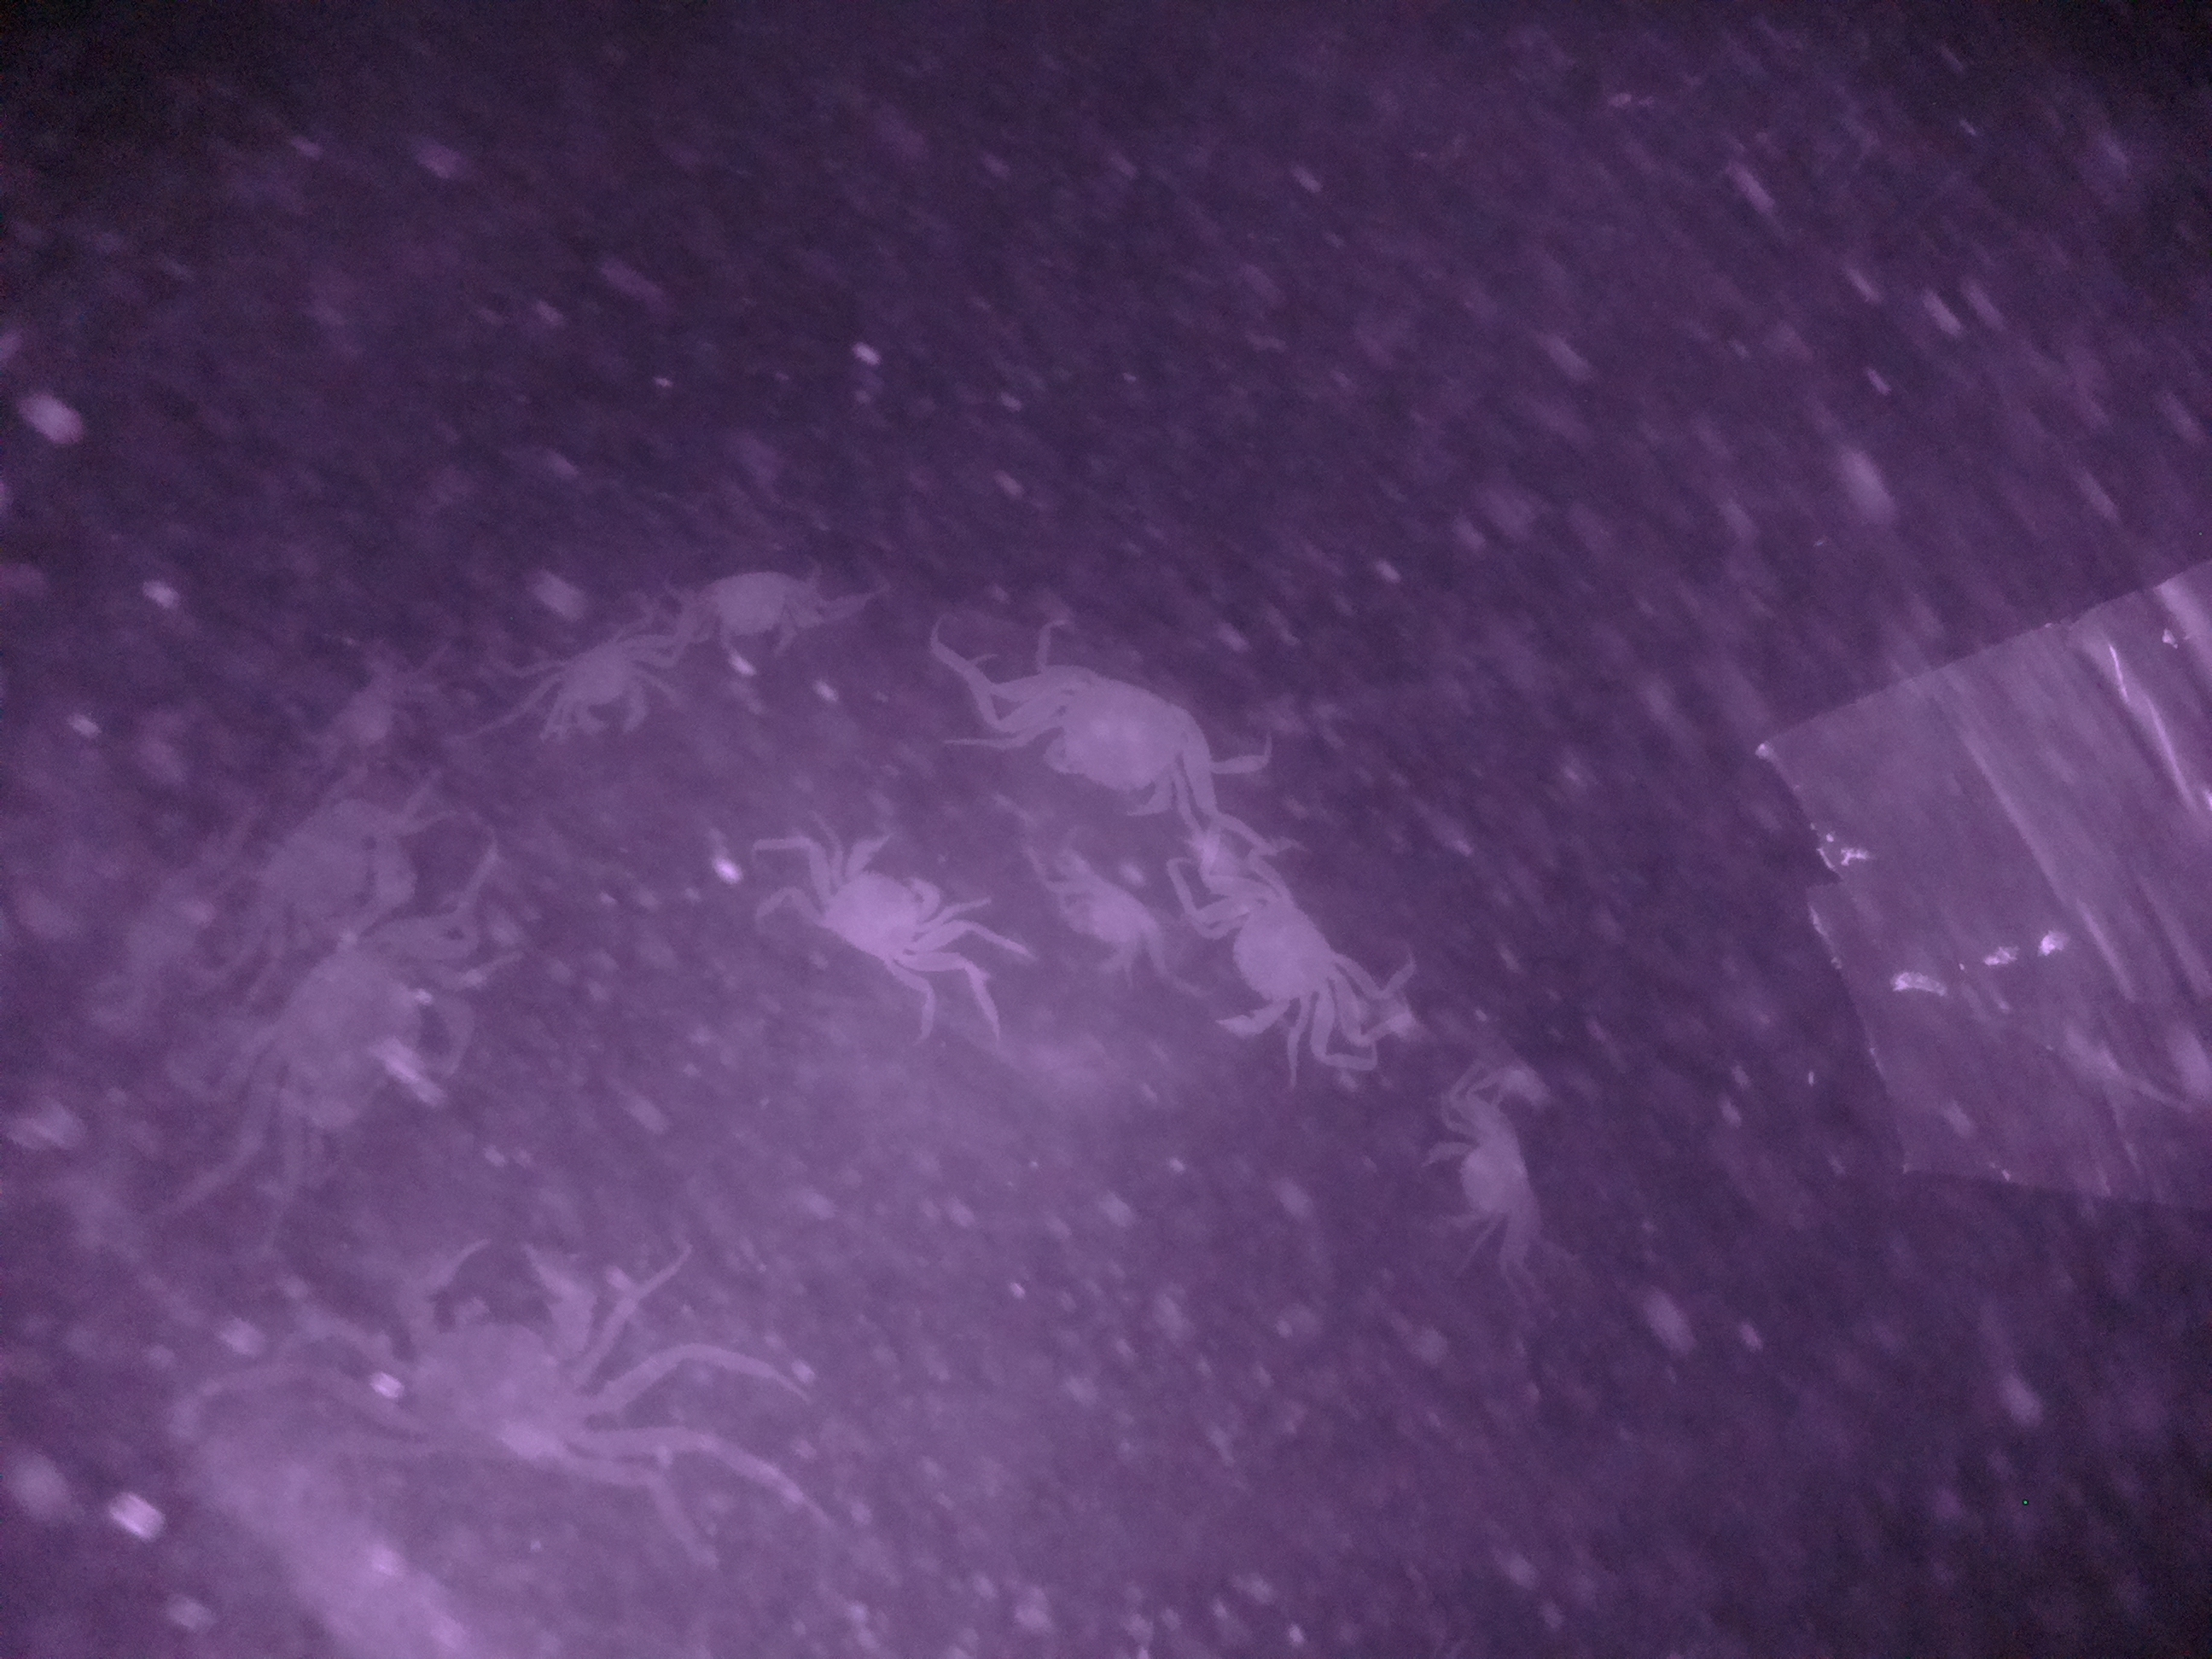Crab: (958, 624, 1233, 838), (1169, 829, 1381, 1049), (784, 805, 970, 995), (676, 551, 864, 692), (507, 613, 683, 760), (1425, 1087, 1541, 1255)
